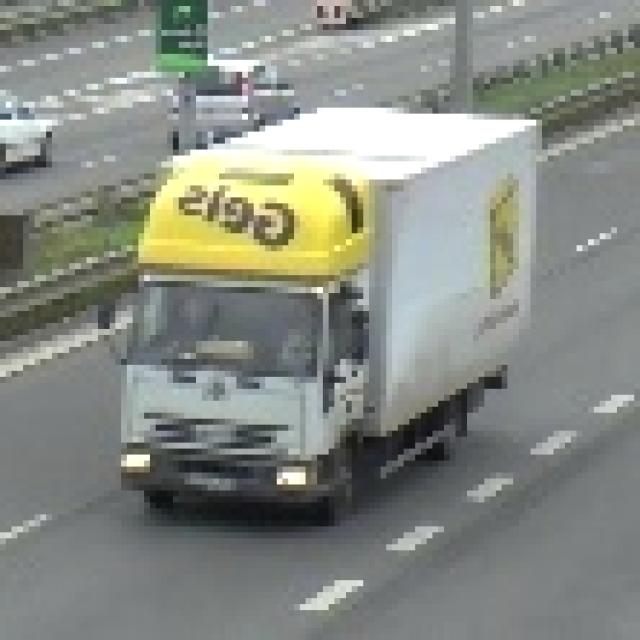truck: (94, 103, 532, 527)
